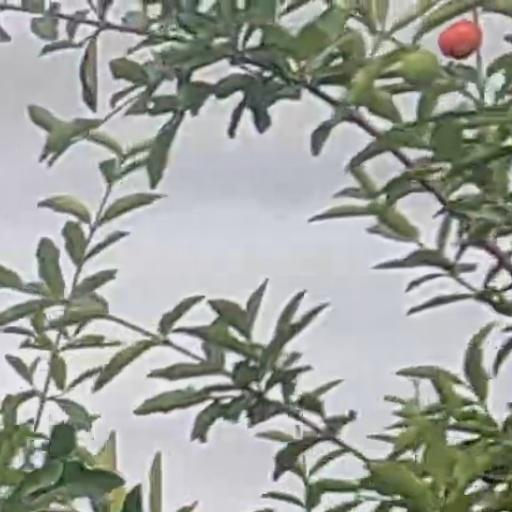acerola: (441, 20, 482, 58)
